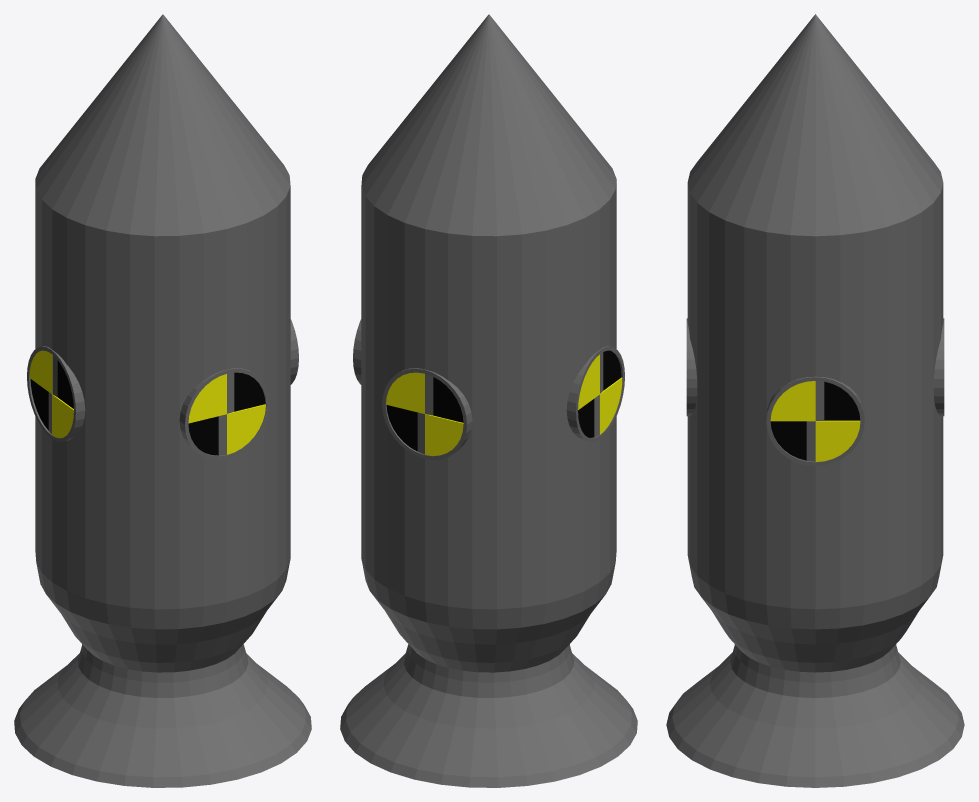
The model's file is nuke.fbx.
3 renders of one model, left to right at view 1: azimuth 30°, elevation 25°; view 2: azimuth 150°, elevation 25°; view 3: azimuth 270°, elevation 25°, orthographic.
Parts seen in each view (by area): view 1: Cylinder, Cylinder.004, Cylinder.001; view 2: Cylinder, Cylinder.002, Cylinder.001; view 3: Cylinder, Cylinder.003, Cylinder.002, Cylinder.004.
Part boxes in pixels (left/top/right/bottom): Cylinder: left=14, top=14, right=311, bottom=787; Cylinder.004: left=179, top=368, right=269, bottom=459; Cylinder.001: left=27, top=346, right=85, bottom=442; Cylinder: left=340, top=14, right=637, bottom=787; Cylinder.002: left=382, top=368, right=472, bottom=459; Cylinder.001: left=566, top=346, right=624, bottom=442; Cylinder: left=666, top=14, right=964, bottom=787; Cylinder.003: left=766, top=376, right=864, bottom=465; Cylinder.002: left=933, top=318, right=944, bottom=416; Cylinder.004: left=686, top=318, right=697, bottom=416.
Size of the model in its own units: 117 by 307 by 117.
